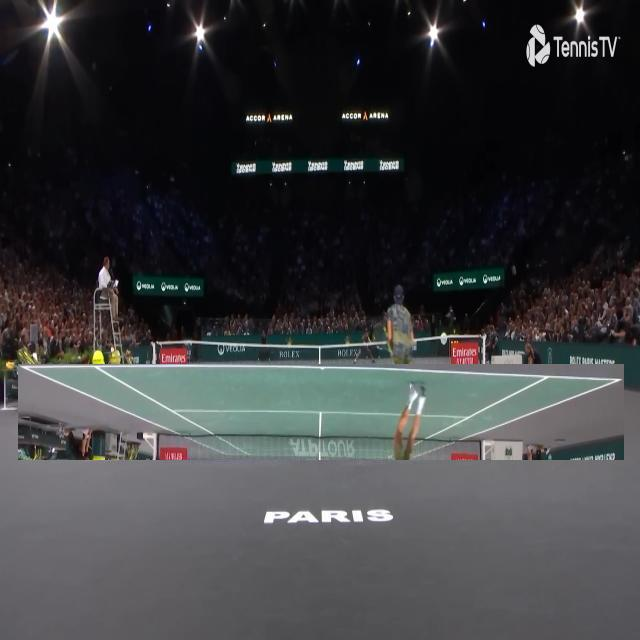court: (18, 364, 624, 460)
net: (152, 333, 486, 388)
player: (381, 280, 428, 444)
